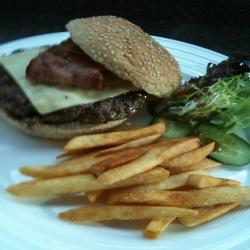burger: (1, 11, 179, 133)
fries: (20, 127, 247, 239)
salad: (181, 67, 250, 132)
